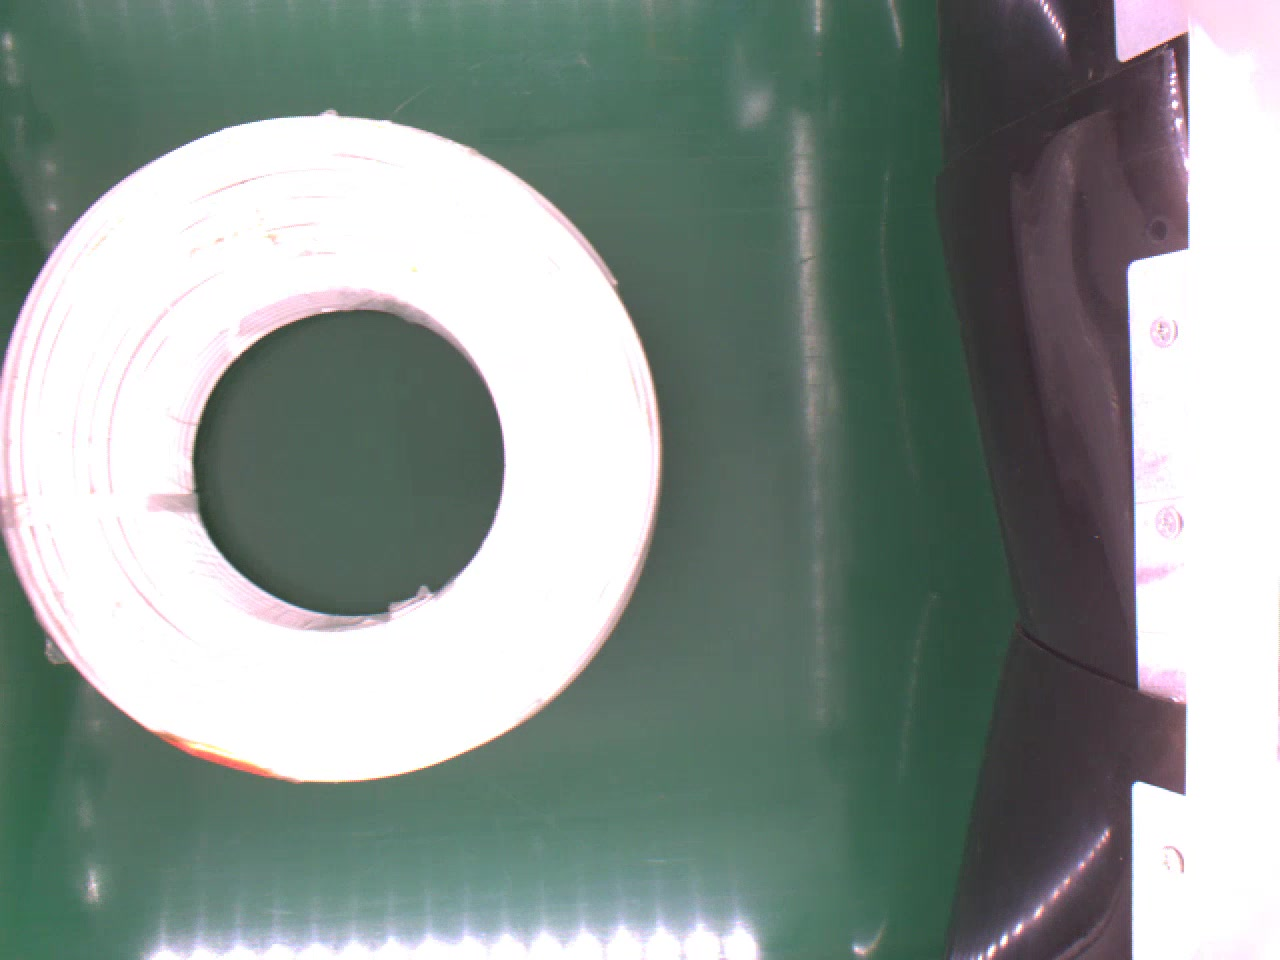white: (0, 111, 662, 796)
